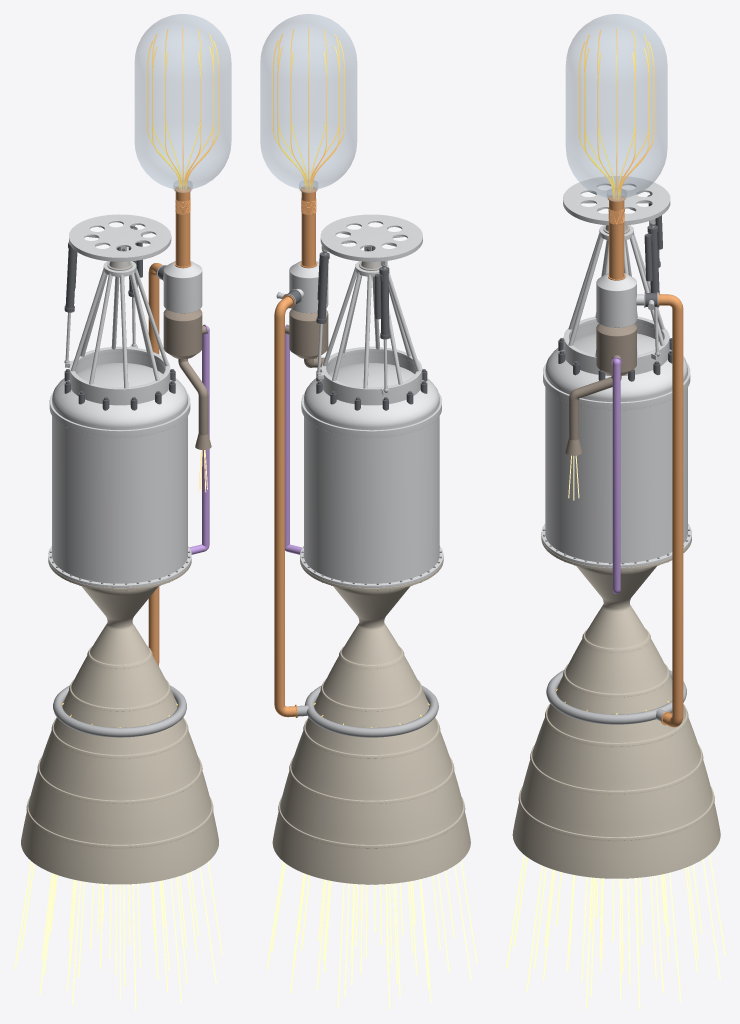
The model's file is nuclear-thermal_d.glb.
3 views of the same model, side by side, from view 1: azimuth 30°, elevation 25°; view 2: azimuth 150°, elevation 25°; view 3: azimuth 270°, elevation 25° (orthographic). The views are drawn at different scales.
Parts seen in each view (by area): view 1: NT_Nozzle, NT_PressureVessel, NT_TankFuel, NT_ThrustStructure, NT_FLOW_HotGas, NT_ThrustMount, NT_FLOW_Hydrogen, NT_Pump, NT_CoolantManifold, NT_Turbine, NT_CoolantFeedLine, NT_BleedLine (+4 smaller); view 2: NT_Nozzle, NT_PressureVessel, NT_TankFuel, NT_ThrustStructure, NT_FLOW_HotGas, NT_CoolantFeedLine, NT_ThrustMount, NT_FLOW_Hydrogen, NT_CoolantManifold, NT_Turbine, NT_Pump, NT_FeedLine (+4 smaller); view 3: NT_Nozzle, NT_PressureVessel, NT_TankFuel, NT_FLOW_HotGas, NT_CoolantFeedLine, NT_ThrustStructure, NT_ThrustMount, NT_FLOW_Hydrogen, NT_BleedLine, NT_Pump, NT_Turbine, NT_CoolantManifold (+4 smaller).
Part boxes in pixels (<box>): NT_Nozzle: <box>21,560,218,884</box>; NT_PressureVessel: <box>48,363,191,587</box>; NT_TankFuel: <box>135,14,231,192</box>; NT_ThrustStructure: <box>65,261,170,405</box>; NT_FLOW_HotGas: <box>14,861,222,1009</box>; NT_ThrustMount: <box>69,214,171,261</box>; NT_FLOW_Hydrogen: <box>62,27,218,727</box>; NT_Pump: <box>163,261,202,313</box>; NT_CoolantManifold: <box>53,685,186,737</box>; NT_Turbine: <box>163,309,206,359</box>; NT_CoolantFeedLine: <box>148,263,162,665</box>; NT_BleedLine: <box>189,324,209,554</box>; NT_Nozzle: <box>272,559,470,884</box>; NT_PressureVessel: <box>300,363,443,588</box>; NT_TankFuel: <box>260,14,356,192</box>; NT_ThrustStructure: <box>316,261,422,405</box>; NT_FLOW_HotGas: <box>266,860,477,1009</box>; NT_CoolantFeedLine: <box>274,295,297,717</box>; NT_ThrustMount: <box>320,214,422,264</box>; NT_FLOW_Hydrogen: <box>273,27,429,727</box>; NT_CoolantManifold: <box>297,685,438,737</box>; NT_Turbine: <box>285,309,328,359</box>; NT_Pump: <box>289,261,328,313</box>; NT_FeedLine: <box>300,186,317,268</box>; NT_Nozzle: <box>512,537,720,878</box>; NT_PressureVessel: <box>541,333,691,567</box>; NT_TankFuel: <box>566,14,667,201</box>; NT_FLOW_HotGas: <box>506,854,725,1009</box>; NT_CoolantFeedLine: <box>658,293,683,727</box>; NT_ThrustStructure: <box>563,225,669,375</box>; NT_ThrustMount: <box>563,176,670,225</box>; NT_FLOW_Hydrogen: <box>556,28,669,714</box>; NT_BleedLine: <box>611,357,621,593</box>; NT_Pump: <box>596,273,644,328</box>; NT_Turbine: <box>596,323,636,375</box>; NT_CoolantManifold: <box>546,670,686,724</box>.
Bounding box in the file's own units: 2.32 × 10.6 × 2.16.
